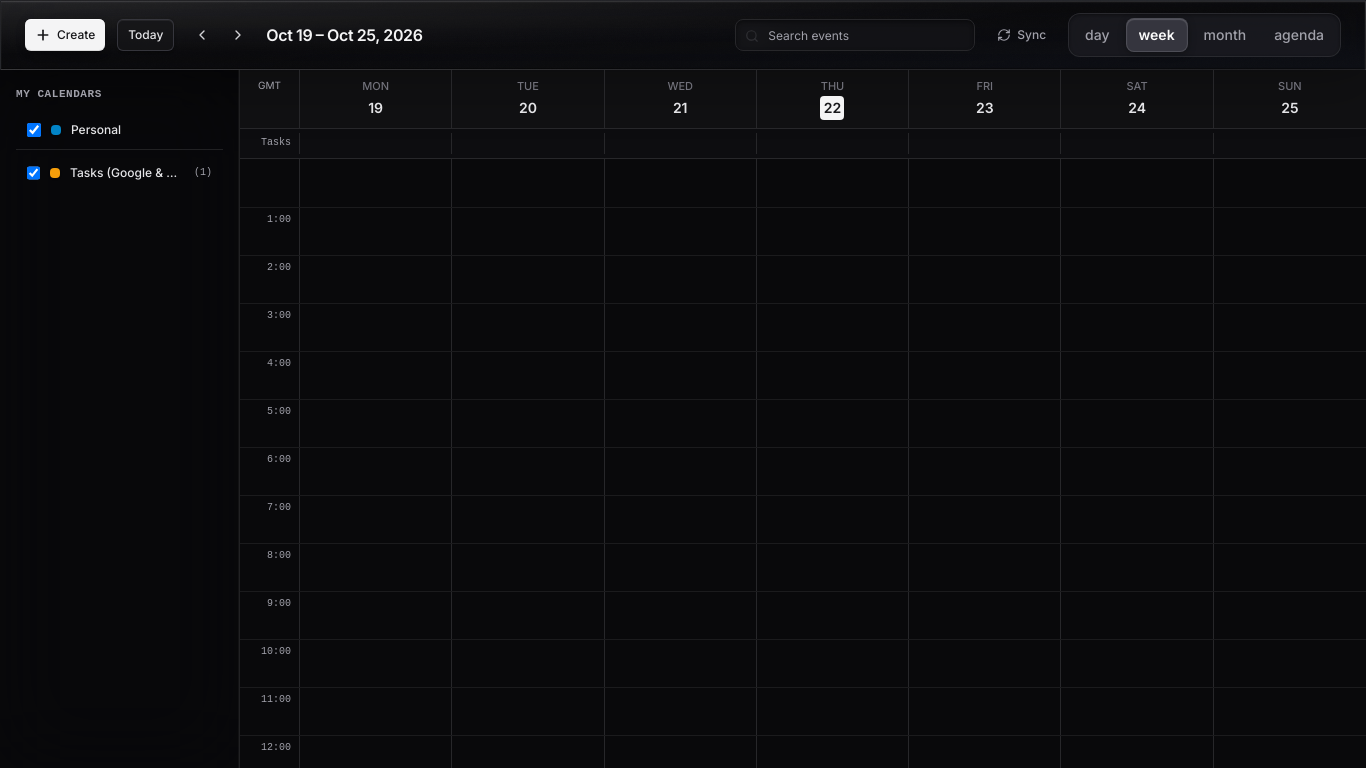
Scenario: Calendar Tabbed Modal & Task Lifecycle (Create, Edit, Delete) › deletes an existing task from the Calendar modal
The width and height of the screenshot is (1366, 768).
# Switch to Agenda view
Click the tab "agenda": coordinates (1299, 35) [1262,19,1336,51]
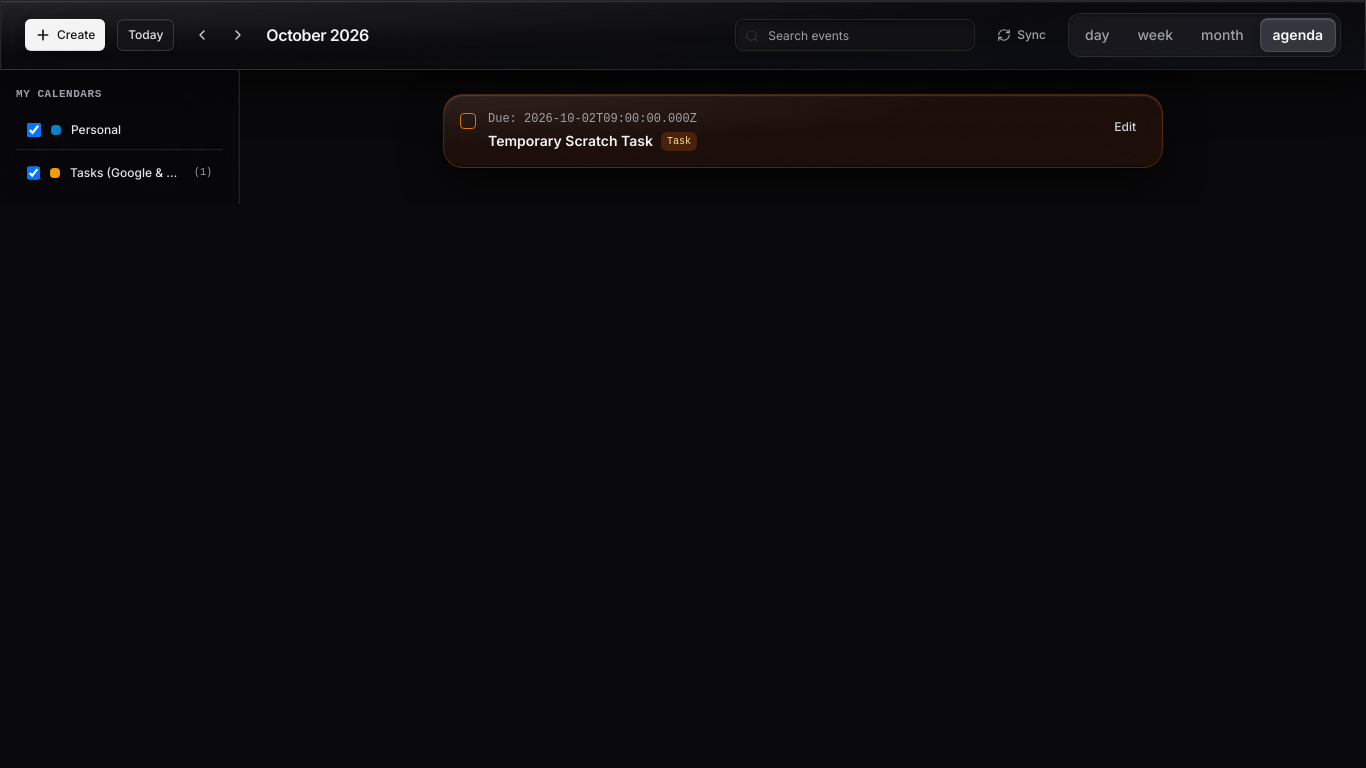
expect the heading "Temporary Scratch Task" is shown: met
# Click task to open edit modal
Click the heading "Temporary Scratch Task": coordinates (570, 141) [488,131,653,151]
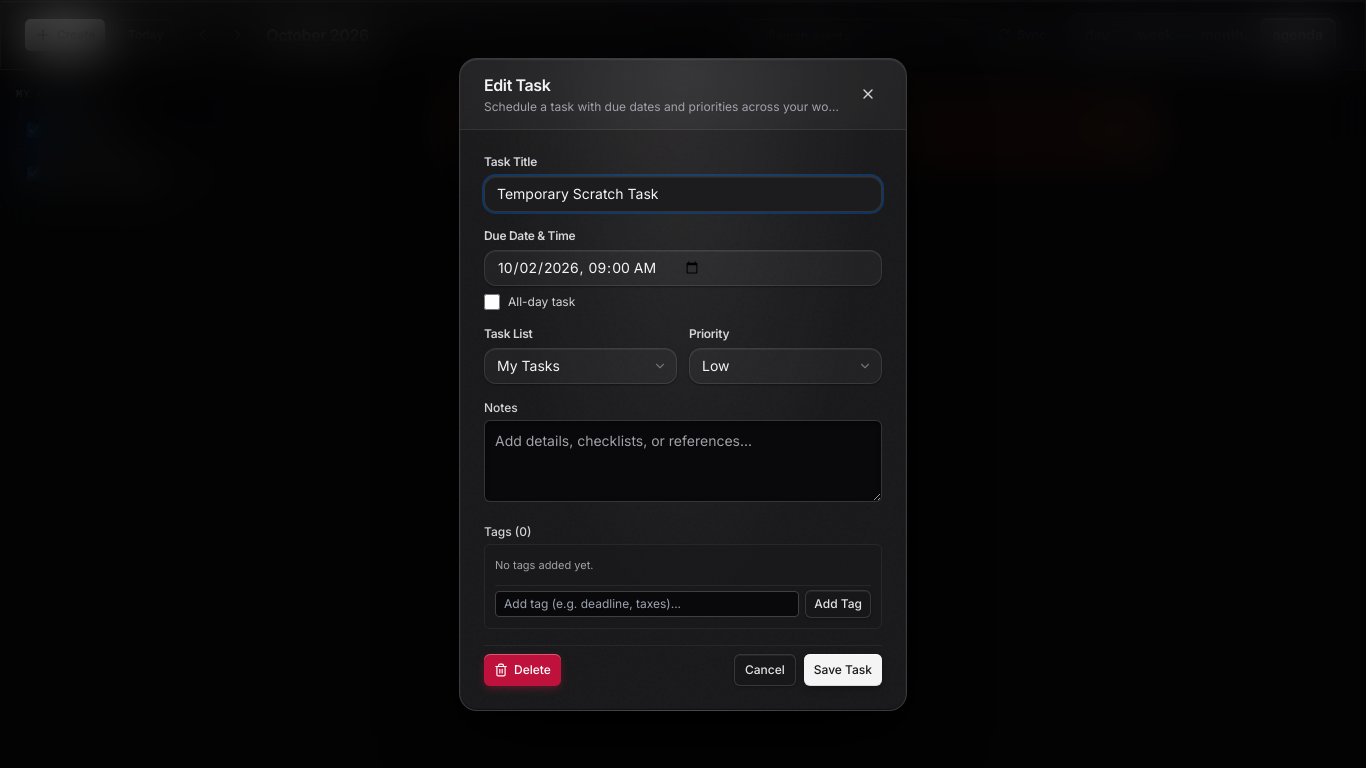
expect the heading "Edit Task" is shown: met, box [484,74,550,94]
# Click Delete button
Click the button "Delete": coordinates (522, 670) [484,654,561,686]
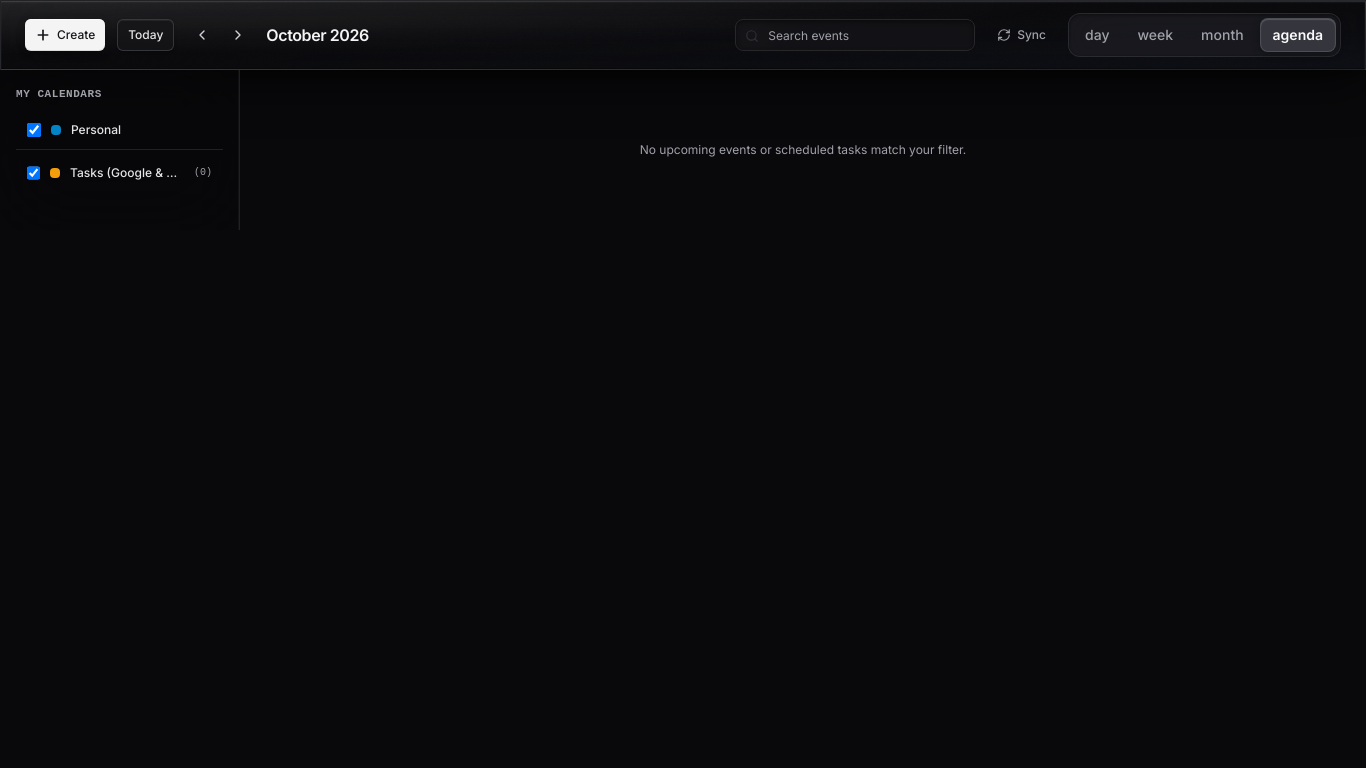
expect the heading "Edit Task" is gone: met
expect the heading "Temporary Scratch Task" is gone: met
